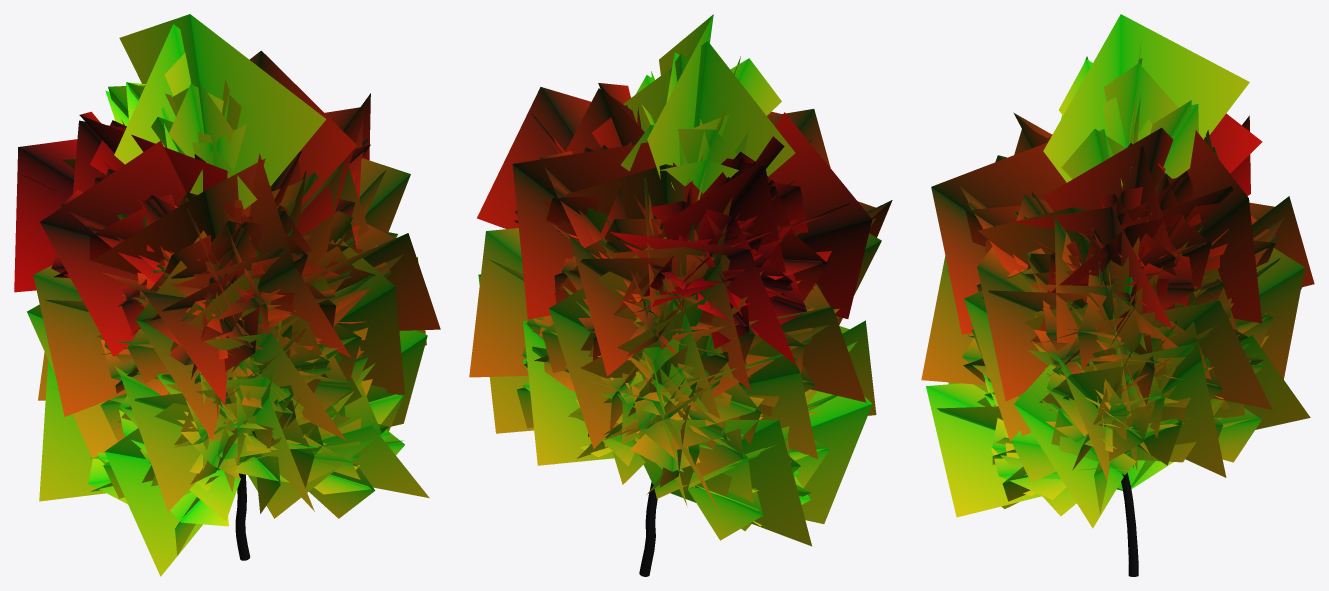
Rendered from linden_tree_2.FBX.
The picture shows the model from 3 angles, left to right: view 1: azimuth 30°, elevation 25°; view 2: azimuth 150°, elevation 25°; view 3: azimuth 270°, elevation 25°; orthographic projection. The views are drawn at different scales.
Parts seen in each view (by area): view 1: linden_leaves_shadow, linden_leaves_lod_0, linden_trunk_lod_0; view 2: linden_leaves_shadow, linden_leaves_lod_0, linden_trunk_lod_0; view 3: linden_leaves_shadow, linden_leaves_lod_0, linden_trunk_lod_0.
Part boxes in pixels (bbox=[...]): linden_leaves_shadow: bbox=[14, 14, 440, 576]; linden_leaves_lod_0: bbox=[51, 52, 404, 555]; linden_trunk_lod_0: bbox=[235, 473, 250, 560]; linden_leaves_shadow: bbox=[469, 14, 892, 546]; linden_leaves_lod_0: bbox=[514, 52, 839, 540]; linden_trunk_lod_0: bbox=[639, 482, 657, 576]; linden_leaves_shadow: bbox=[921, 14, 1314, 528]; linden_leaves_lod_0: bbox=[962, 56, 1277, 516]; linden_trunk_lod_0: bbox=[1121, 472, 1138, 576].
Size of what is drawn, in the model's own units: 7.92 by 11.17 by 7.45.
